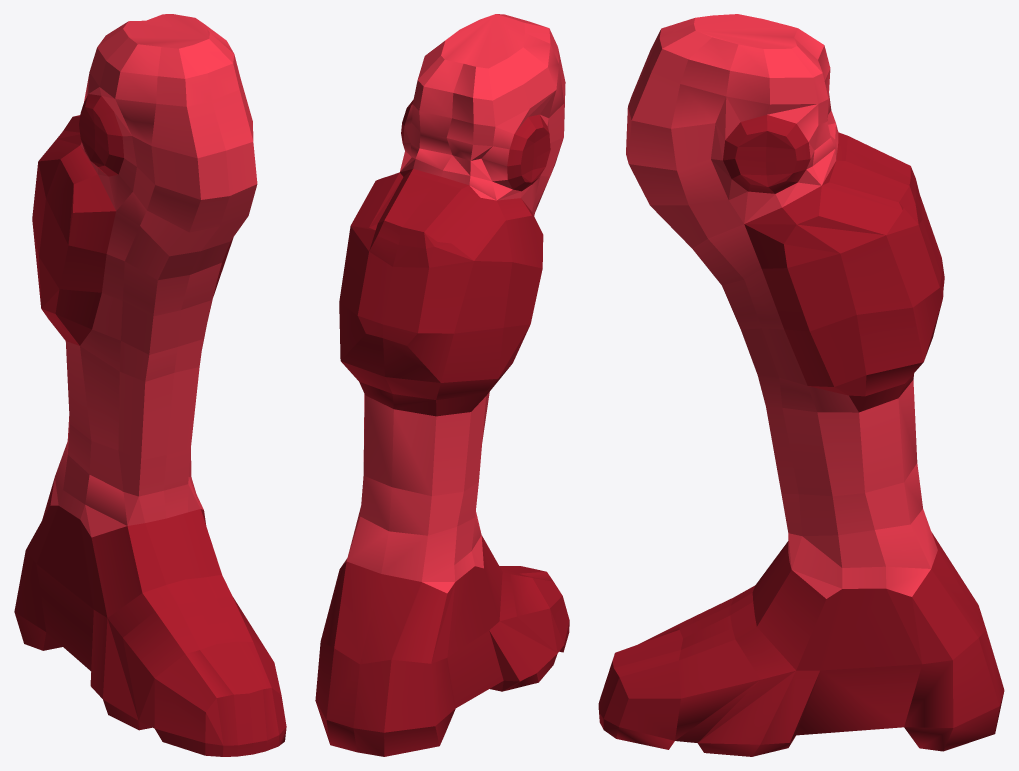
File: right_calf.fbx
3 views of the same model, side by side, from view 1: azimuth 30°, elevation 25°; view 2: azimuth 150°, elevation 25°; view 3: azimuth 270°, elevation 25° (orthographic). The views are drawn at different scales.
Visible parts, largest first — view 1: right_calf; view 2: right_calf; view 3: right_calf.
Boxes of the visible parts, x1,y1,x2,y2 form: right_calf: [14, 14, 286, 756]; right_calf: [315, 14, 569, 756]; right_calf: [598, 14, 1004, 756].
Bounding box in the file's own units: 0.1854 × 0.6847 × 0.364.
